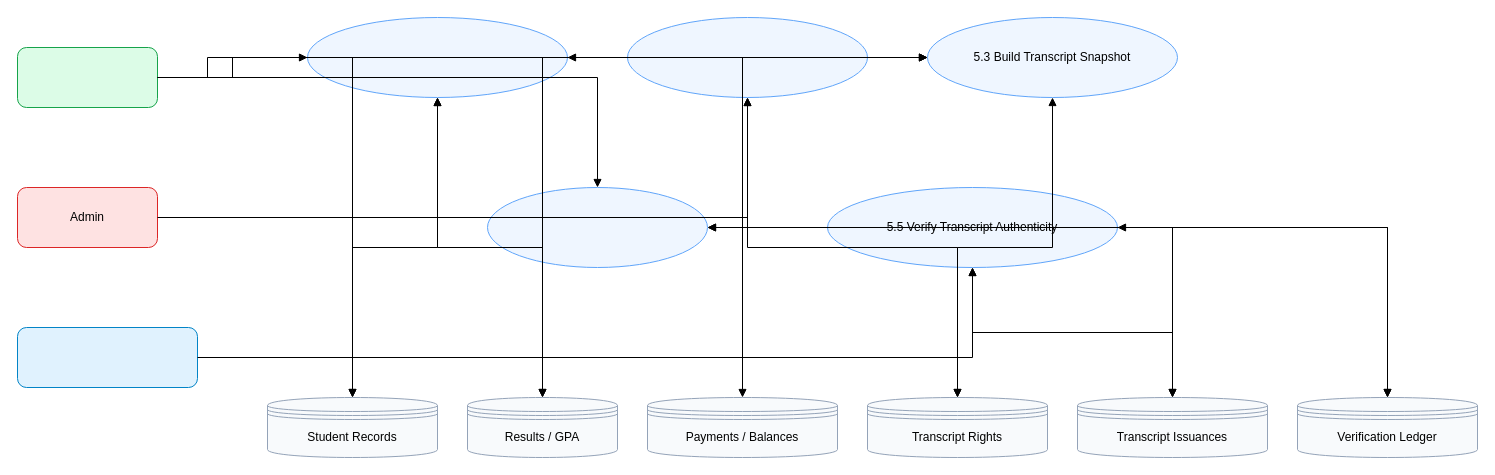
The diagram is 1495 pixels wide and 475 high, and some of its shapes have lost their labels. The shapes that lost their labels are listed below. From the top down, each one's centre as x and y in pixels, then its label:
At (87,77): "Student".
At (437,57): "5.1 Check Transcript Eligibility".
At (747,57): "5.2 Grant Transcript Rights".
At (597,227): "5.4 Issue Transcript".
At (107,357): "External Verifier".
